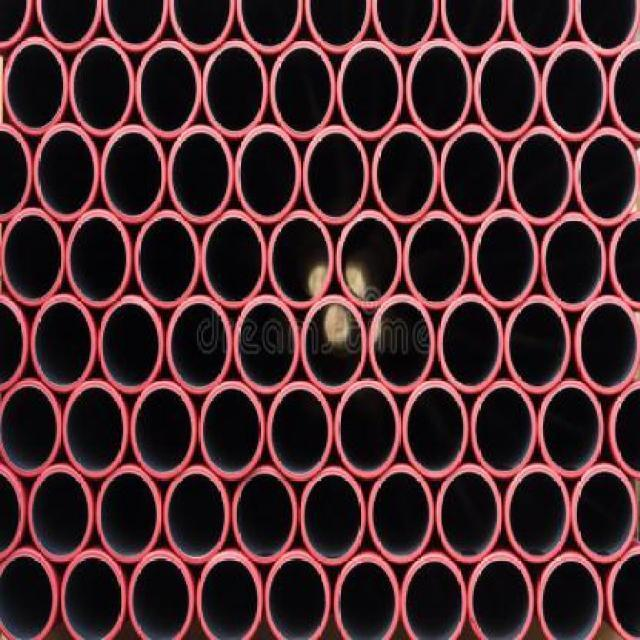pipe: (302, 125, 370, 225), (300, 295, 368, 395), (62, 378, 130, 478), (435, 463, 503, 563), (471, 209, 539, 308), (369, 293, 437, 392), (436, 293, 504, 392), (402, 378, 470, 477), (163, 466, 231, 565), (537, 380, 605, 478), (265, 382, 333, 480), (299, 466, 367, 564), (235, 123, 301, 223), (440, 124, 506, 224), (65, 208, 131, 308), (201, 209, 267, 309), (267, 209, 333, 309), (134, 210, 200, 310), (130, 379, 196, 479), (200, 379, 266, 479), (572, 464, 638, 564), (69, 37, 135, 137), (270, 39, 336, 139), (166, 126, 234, 223), (29, 294, 97, 391), (373, 124, 439, 223), (507, 126, 573, 225), (336, 209, 402, 308), (540, 212, 606, 311), (368, 464, 434, 563), (96, 464, 162, 563), (406, 38, 472, 137), (135, 39, 201, 138), (337, 40, 403, 139), (474, 40, 540, 139), (542, 42, 608, 141), (575, 294, 640, 394), (166, 295, 232, 393), (234, 295, 300, 393), (99, 295, 165, 393), (471, 380, 537, 478), (33, 122, 98, 221), (575, 127, 640, 226), (0, 208, 65, 307), (334, 378, 399, 477), (505, 464, 570, 563), (202, 38, 267, 137), (100, 125, 166, 222), (404, 212, 470, 309), (505, 296, 571, 393), (28, 465, 94, 562), (232, 468, 298, 565), (3, 37, 69, 134), (59, 550, 127, 639), (128, 551, 196, 639), (263, 551, 331, 639), (537, 551, 605, 639), (0, 378, 60, 476), (468, 553, 536, 639), (198, 550, 263, 639), (401, 553, 467, 639), (335, 553, 401, 639), (0, 548, 58, 639), (372, 0, 440, 54), (574, 0, 639, 55), (507, 0, 573, 54), (237, 0, 303, 54), (35, 0, 102, 52), (440, 0, 506, 52), (169, 0, 235, 52), (304, 0, 370, 52), (102, 0, 168, 51), (607, 210, 640, 312), (606, 380, 640, 478), (606, 546, 640, 640), (0, 124, 32, 221), (608, 42, 639, 141), (0, 293, 28, 392), (0, 463, 26, 562)
